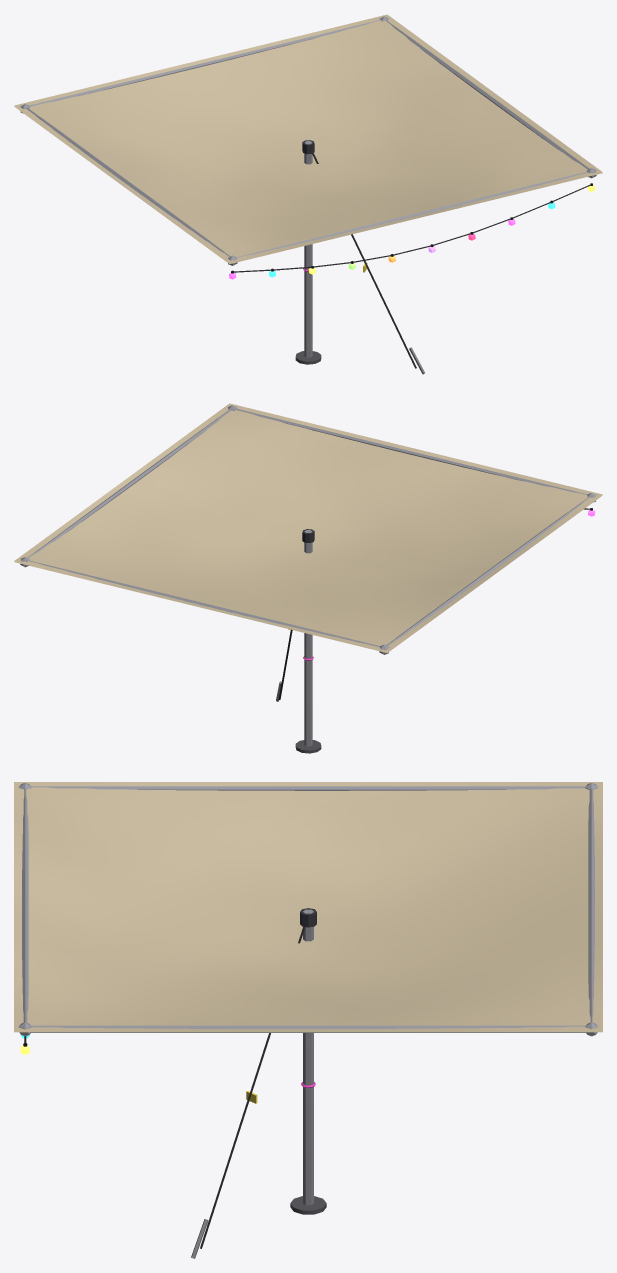
Rendered from shade.glb.
The picture shows the model from 3 angles, top to bottom: view 1: azimuth 30°, elevation 25°; view 2: azimuth 150°, elevation 25°; view 3: azimuth 270°, elevation 25°; orthographic projection. The views are drawn at different scales.
Parts seen in each view (by area): view 1: cover, edge_2, pole_pipe, edge_3, edge_0, edge_1; view 2: cover, edge_0, pole_pipe, edge_3, edge_2, edge_1; view 3: cover, edge_3, edge_1, pole_pipe, edge_2, edge_0, guy_line.
Part boxes in pixels (<box>): cover: <box>14,14,602,264</box>; edge_2: <box>29,19,380,106</box>; pole_pipe: <box>304,141,312,357</box>; edge_3: <box>386,20,589,169</box>; edge_0: <box>237,171,588,257</box>; edge_1: <box>26,108,230,256</box>; cover: <box>14,403,602,652</box>; edge_0: <box>236,408,587,494</box>; pole_pipe: <box>304,530,312,746</box>; edge_3: <box>27,409,231,558</box>; edge_2: <box>28,560,379,647</box>; edge_1: <box>386,497,589,645</box>; cover: <box>14,782,602,1032</box>; edge_3: <box>31,1025,585,1032</box>; edge_1: <box>31,786,585,790</box>; pole_pipe: <box>303,909,313,1205</box>; edge_2: <box>588,789,594,1022</box>; edge_0: <box>22,789,28,1022</box>; guy_line: <box>200,926,305,1248</box>.
Bounding box in the file's own units: 5.2 × 3 × 5.2.
